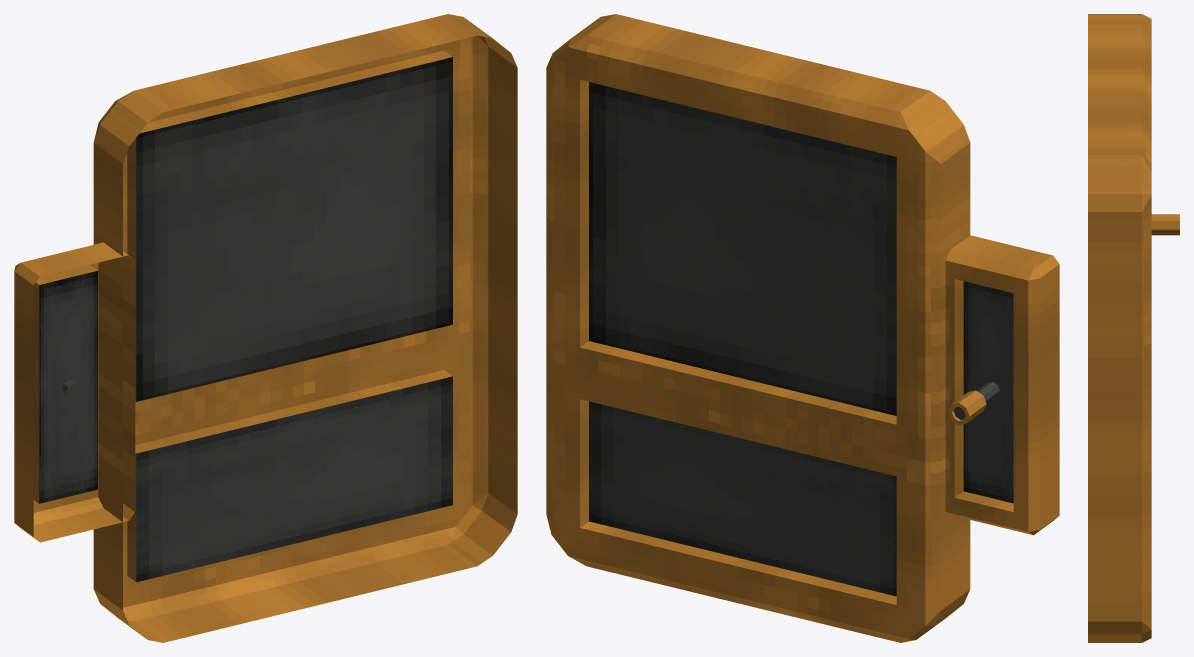
Rendered from upgrade_button.glb.
The picture shows the model from 3 angles, left to right: view 1: azimuth 30°, elevation 25°; view 2: azimuth 150°, elevation 25°; view 3: azimuth 270°, elevation 25°; orthographic projection. The views are drawn at different scales.
Visible parts, largest first — view 1: UpgradeButton; view 2: UpgradeButton; view 3: UpgradeButton.
Boxes of the visible parts, <box> form: UpgradeButton: <box>14,14,517,642</box>; UpgradeButton: <box>546,14,1059,642</box>; UpgradeButton: <box>1088,14,1179,642</box>.
Size of the model in its own units: 0.56 by 0.5869 by 0.1002.
1 material, 1 textured.
